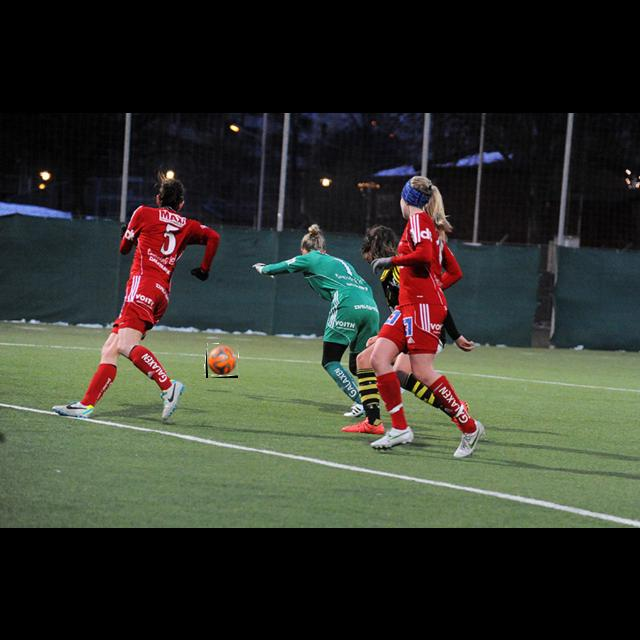Football: (206, 344, 238, 378)
